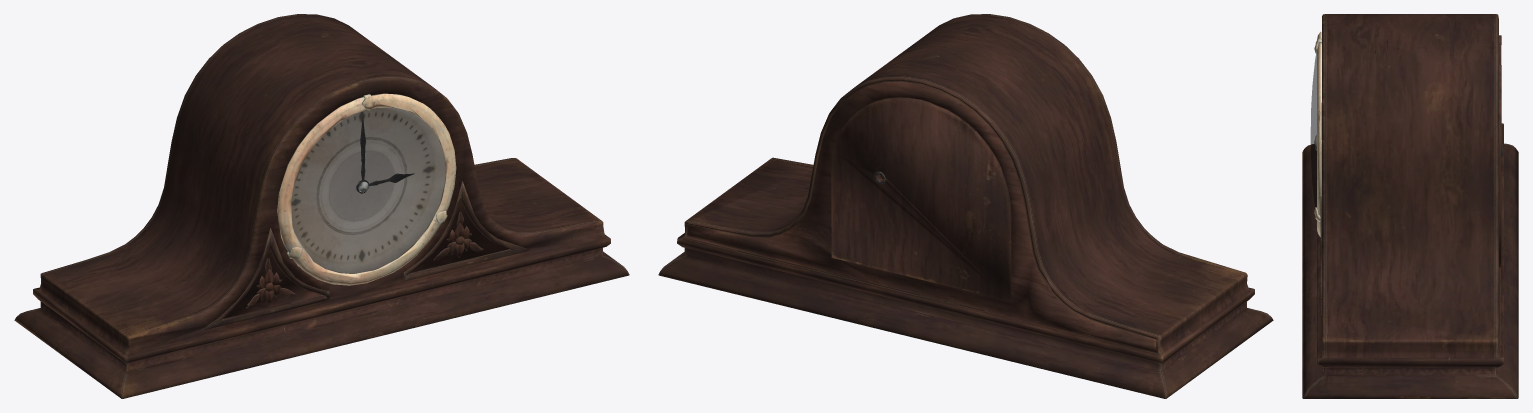
The model's file is mantel_clock_01.glb.
3 renders of one model, left to right at view 1: azimuth 30°, elevation 25°; view 2: azimuth 150°, elevation 25°; view 3: azimuth 270°, elevation 25°, orthographic.
Parts seen in each view (by area): view 1: mantel_clock_01, mantel_clock_01_glass; view 2: mantel_clock_01; view 3: mantel_clock_01, mantel_clock_01_glass.
Boxes of the visible parts, bbox=[...] form: mantel_clock_01: bbox=[14, 14, 629, 398]; mantel_clock_01_glass: bbox=[291, 108, 445, 273]; mantel_clock_01: bbox=[658, 14, 1273, 398]; mantel_clock_01: bbox=[1302, 14, 1518, 398]; mantel_clock_01_glass: bbox=[1310, 53, 1316, 207].
Bounding box in the file's own units: 0.3418 × 0.1604 × 0.126.
2 materials, 2 textured.
